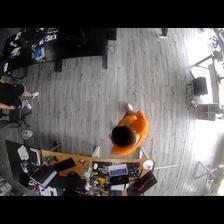normal: (102, 102, 151, 154), (1, 81, 40, 111)
